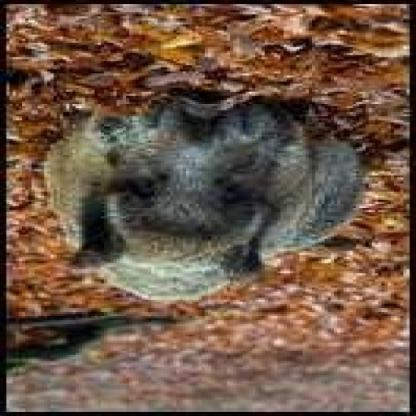boar: (61, 100, 384, 317)
